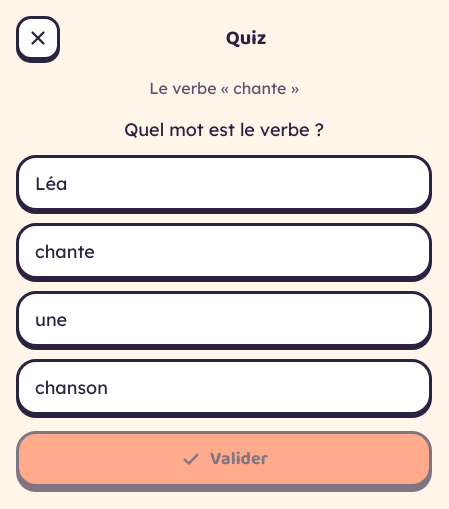
Test: GameScreen, as drawn in the mockups › a right answer: the bravo screen — its line as a big title, the joyful mascot, the star won, « Jeu suivant » with an arrow
What coordinates should you click on to do the following:
click the button "chante"
I would click on:
 (65, 251)
Its box is [16,223,432,279].
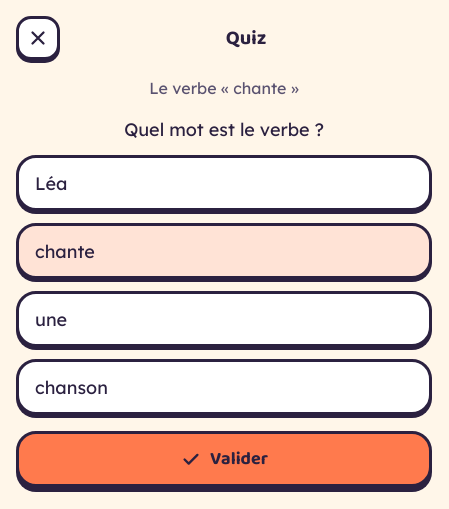
What coordinates should you click on to do the following:
click the button "Valider"
I would click on:
 (224, 459)
Its box is [16,431,432,487].
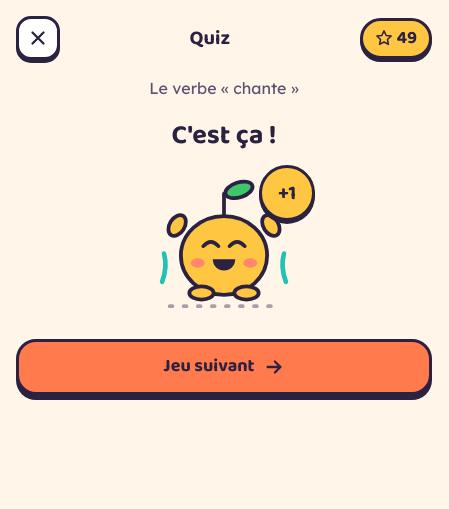
expect the text "+1" is shown: met, box [259,164,315,220]
